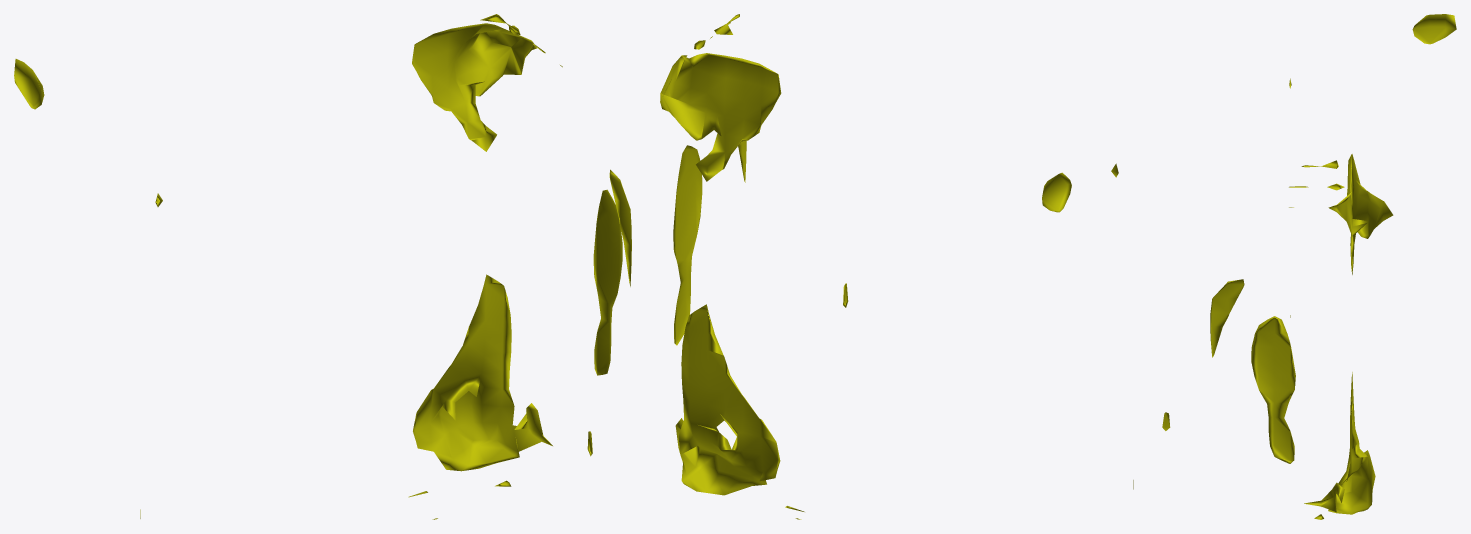
3 renders of one model, left to right at view 1: azimuth 30°, elevation 25°; view 2: azimuth 150°, elevation 25°; view 3: azimuth 270°, elevation 25°, orthographic. The views are drawn at different scales.
Visible parts, largest first — view 1: world; view 2: world; view 3: world.
Part boxes in pixels (x1,y1,x2,y2): world: (14,14,631,519); world: (660,14,1133,519); world: (1162,14,1456,519).
Bounding box in the file's own units: 27.53 × 26.14 × 18.94.
